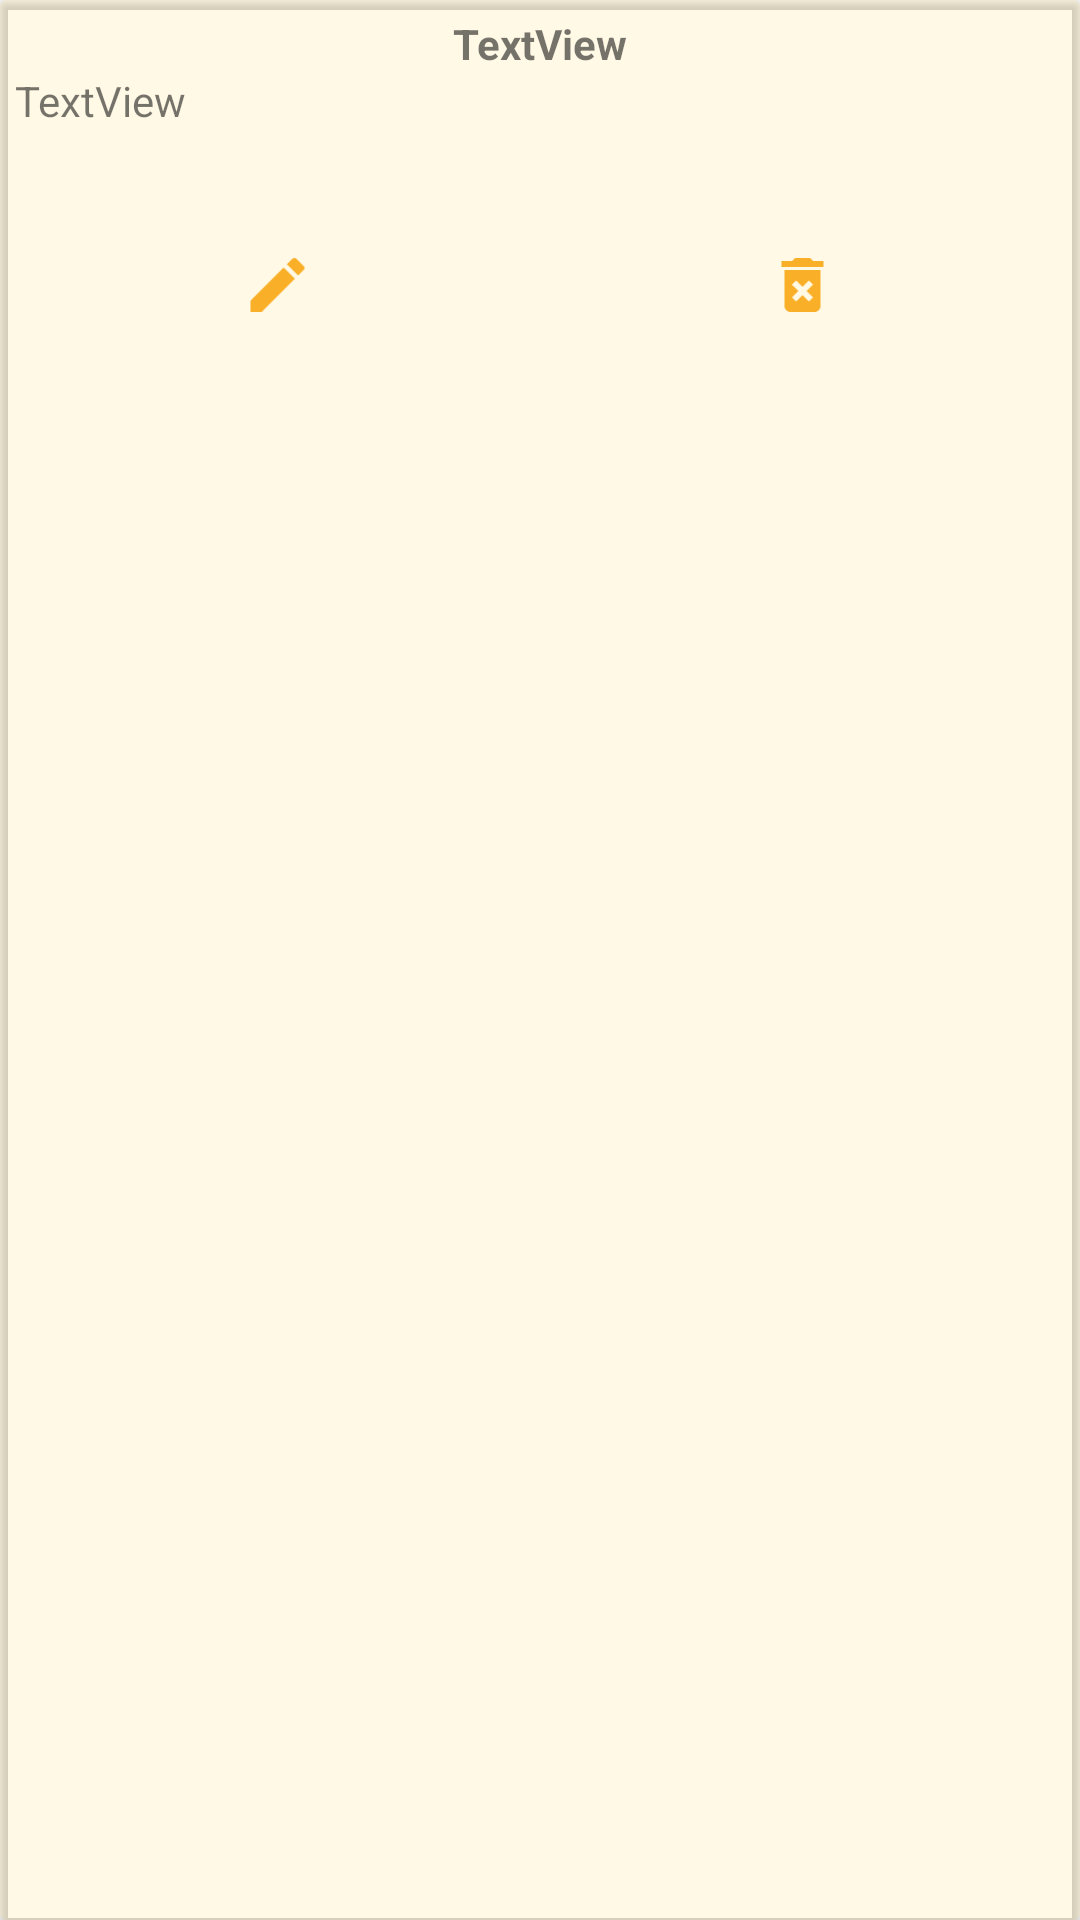

Screen size 1080×1920. Icon name, then its center in pixels as (x=x, y=y):
delete: (x=802, y=285)
edit: (x=277, y=285)
